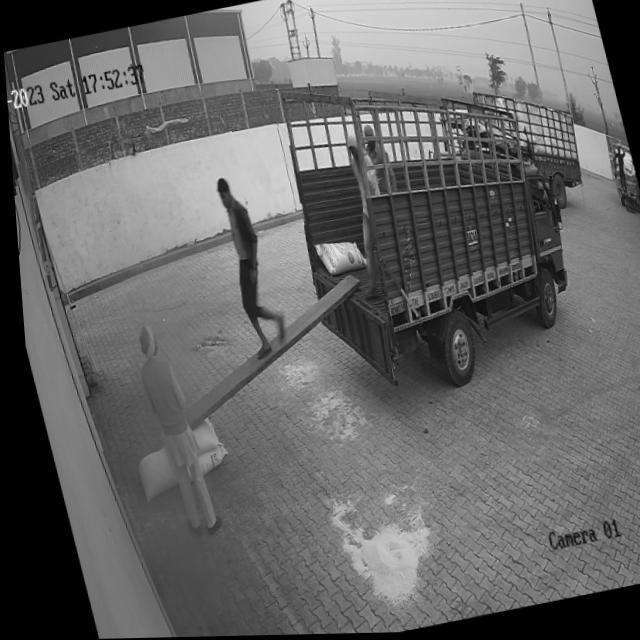sack: (125, 446, 172, 502), (309, 235, 363, 279), (180, 416, 214, 455), (189, 444, 223, 476)
